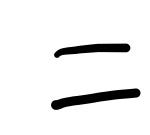eqv: (50, 42, 141, 110)
